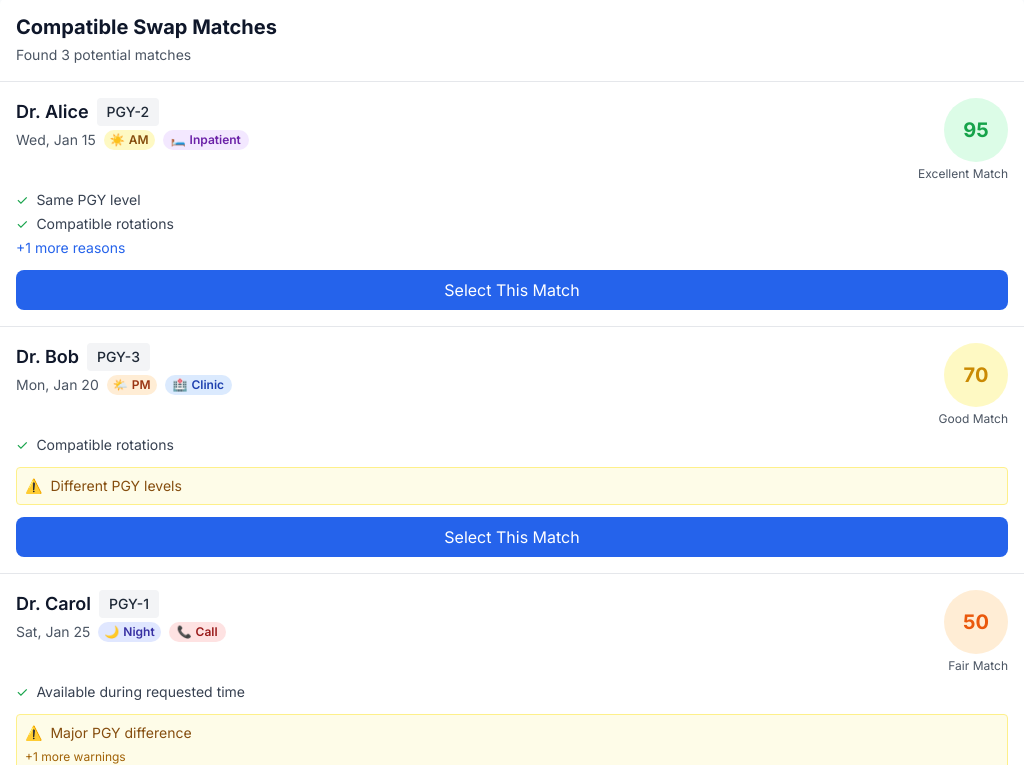
Test case: SwapMatchList › Warnings › expands warnings when clicked
Click the button "+1 more warnings" at [75, 757], box [25,749,126,764]
(page scrolled)
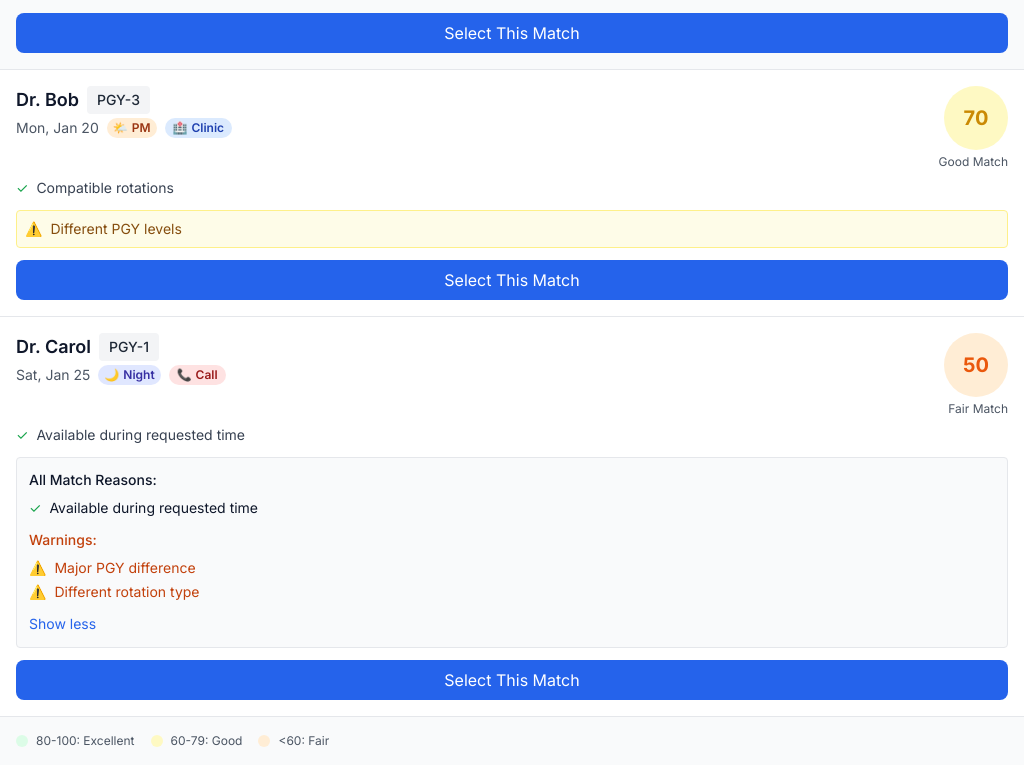
Check: the text "Different rotation type" is shown, box [54,582,200,602]
